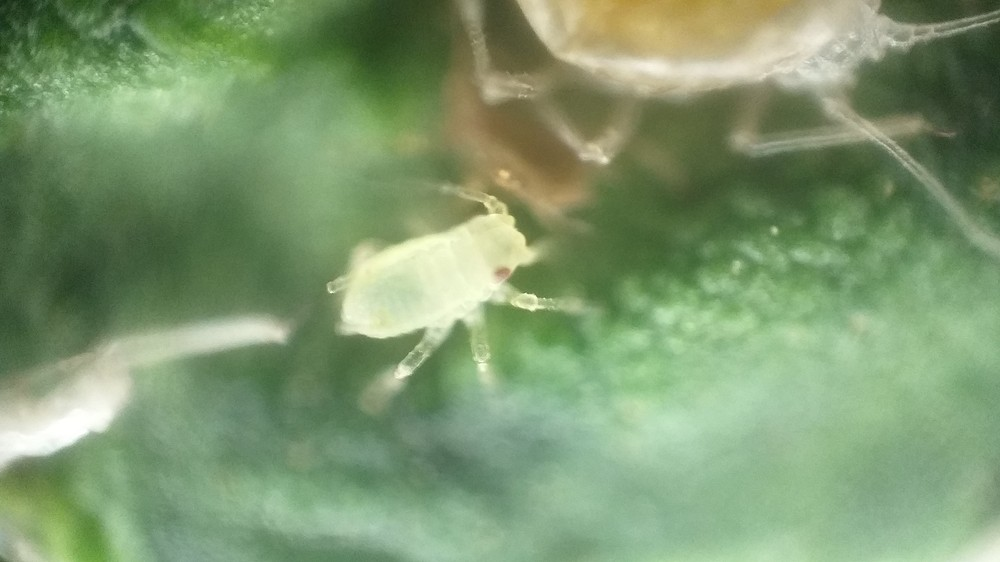Pulgon: (295, 159, 654, 414)
